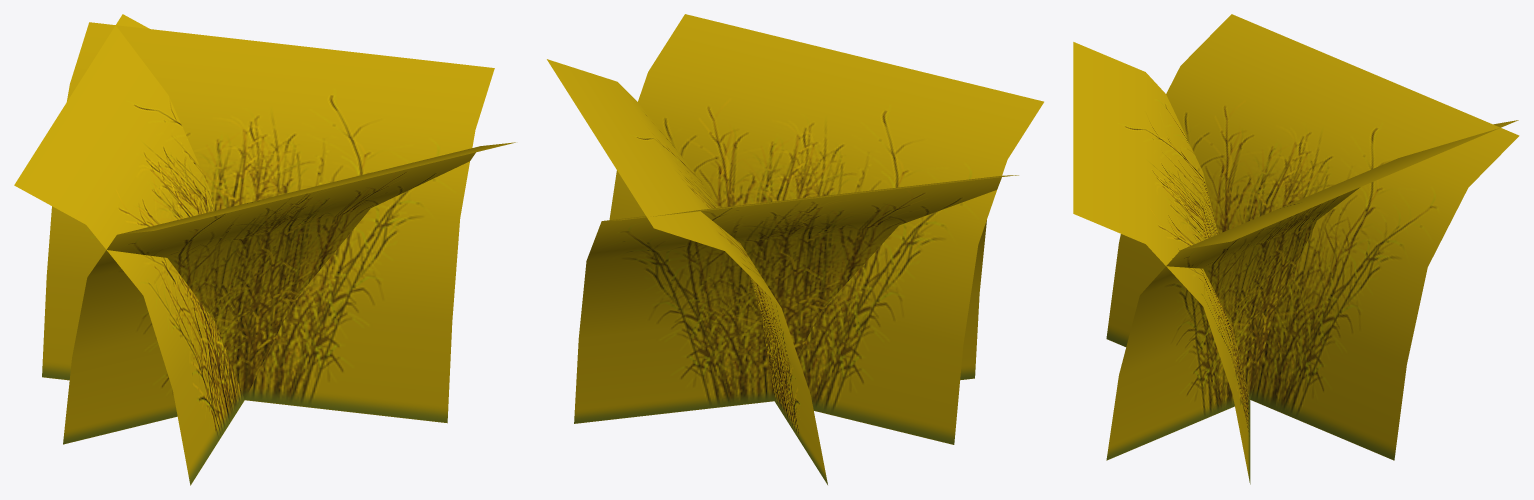
File: sb_obj_nature002_Grass02b.fbx
3 renders of one model, left to right at view 1: azimuth 30°, elevation 25°; view 2: azimuth 150°, elevation 25°; view 3: azimuth 270°, elevation 25°, orthographic. The views are drawn at different scales.
Parts seen in each view (by area): view 1: sb_obj_nature002_Grass02b; view 2: sb_obj_nature002_Grass02b; view 3: sb_obj_nature002_Grass02b.
Boxes of the visible parts, left/top/right/bottom form: sb_obj_nature002_Grass02b: left=14, top=14, right=515, bottom=485; sb_obj_nature002_Grass02b: left=547, top=14, right=1043, bottom=484; sb_obj_nature002_Grass02b: left=1073, top=14, right=1519, bottom=484.
Size of the model in its own units: 2.12 by 1.18 by 1.75.
